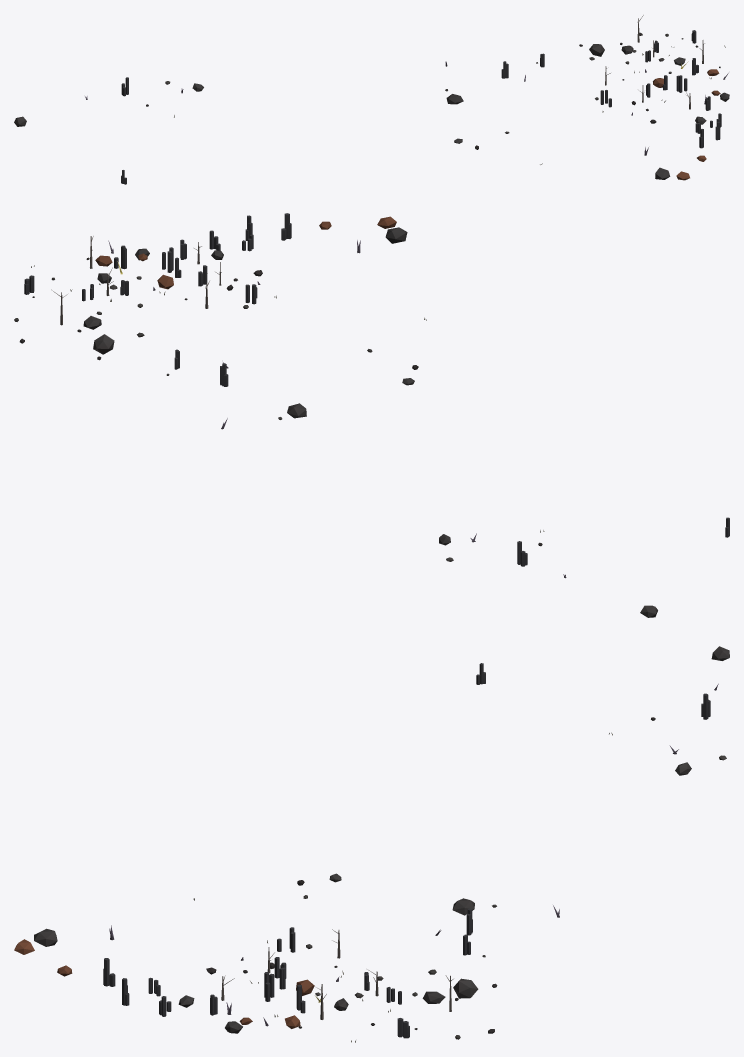
Rendered from ash_land_scatter_c22_31_lod1.glb.
3 renders of one model, top to bottom at view 1: azimuth 30°, elevation 25°; view 2: azimuth 150°, elevation 25°; view 3: azimuth 270°, elevation 25°, orthographic. The views are drawn at different scales.
Parts seen in each view (by area): view 1: ash_land_scatter_c22_31_lod1; view 2: ash_land_scatter_c22_31_lod1; view 3: ash_land_scatter_c22_31_lod1.
Part boxes in pixels (box(x1,y1,x2,y2)): ash_land_scatter_c22_31_lod1: box(14, 15, 729, 184); ash_land_scatter_c22_31_lod1: box(14, 213, 729, 617); ash_land_scatter_c22_31_lod1: box(14, 646, 729, 1042).
Bounding box in the file's own units: 189 × 16.83 × 134.
